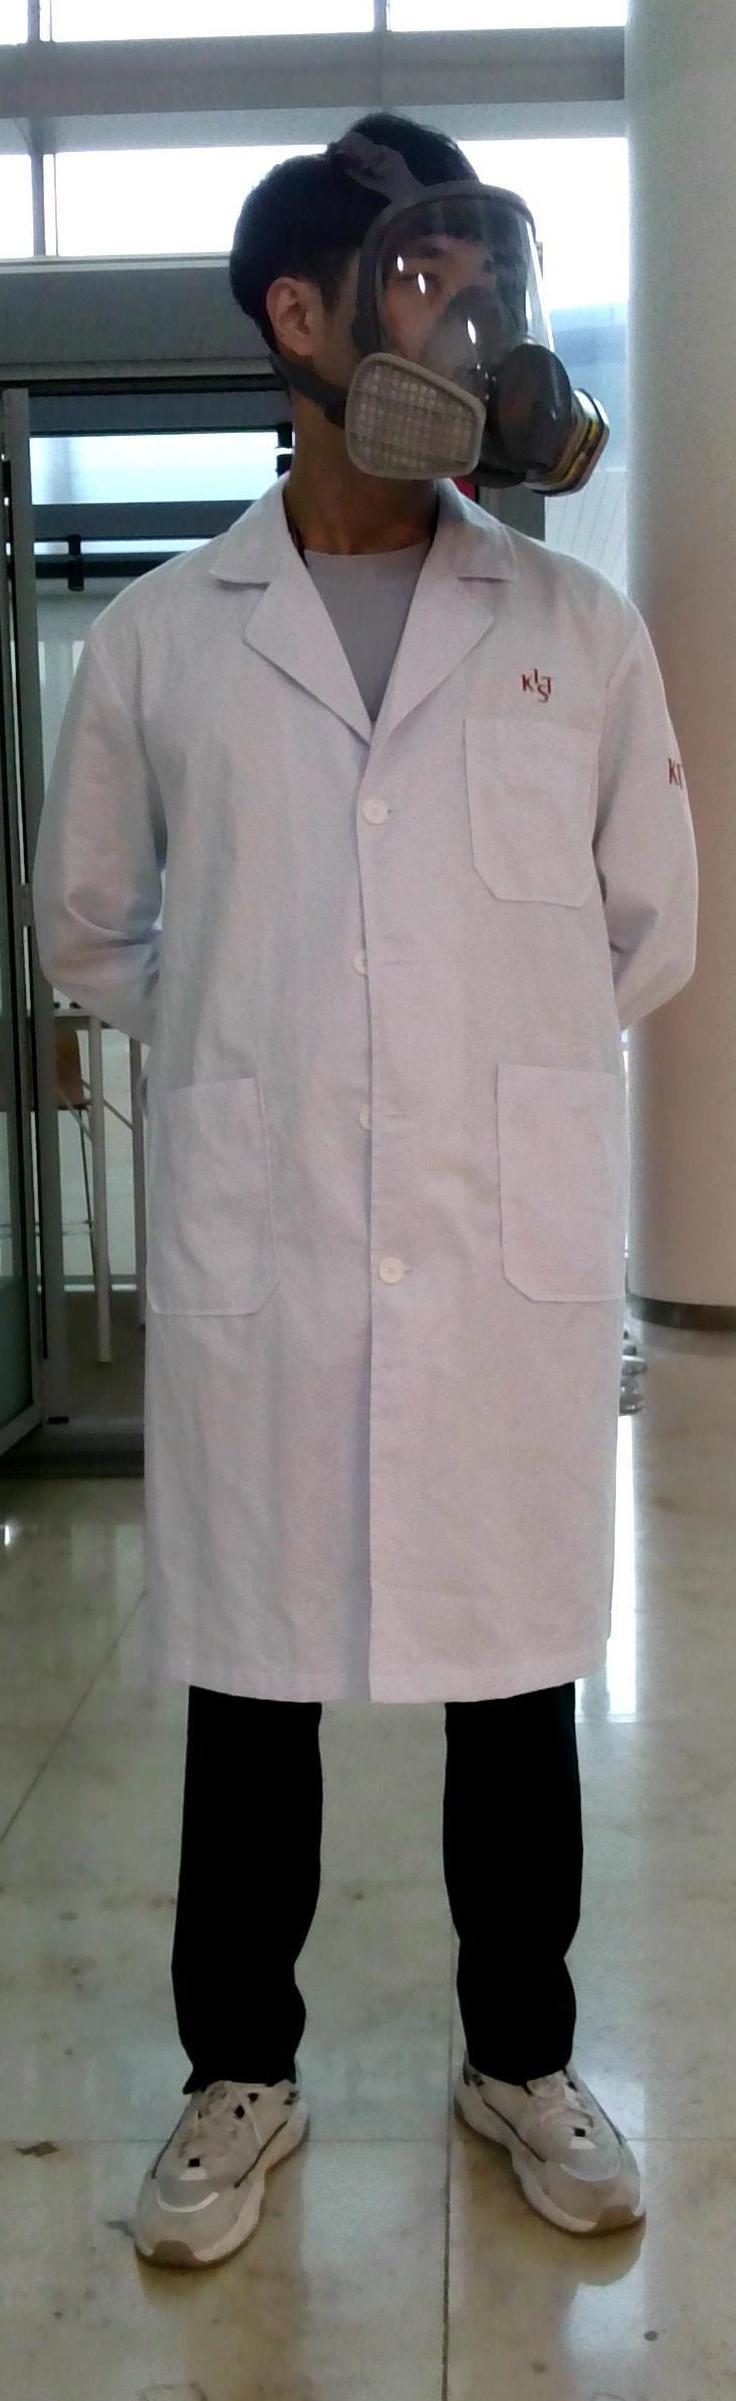lab_coat: (26, 541, 724, 1658)
